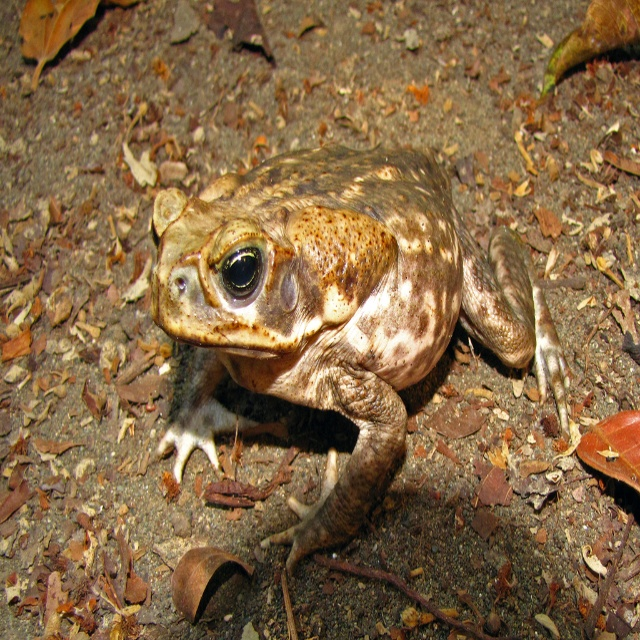Frog: (151, 137, 573, 578)
